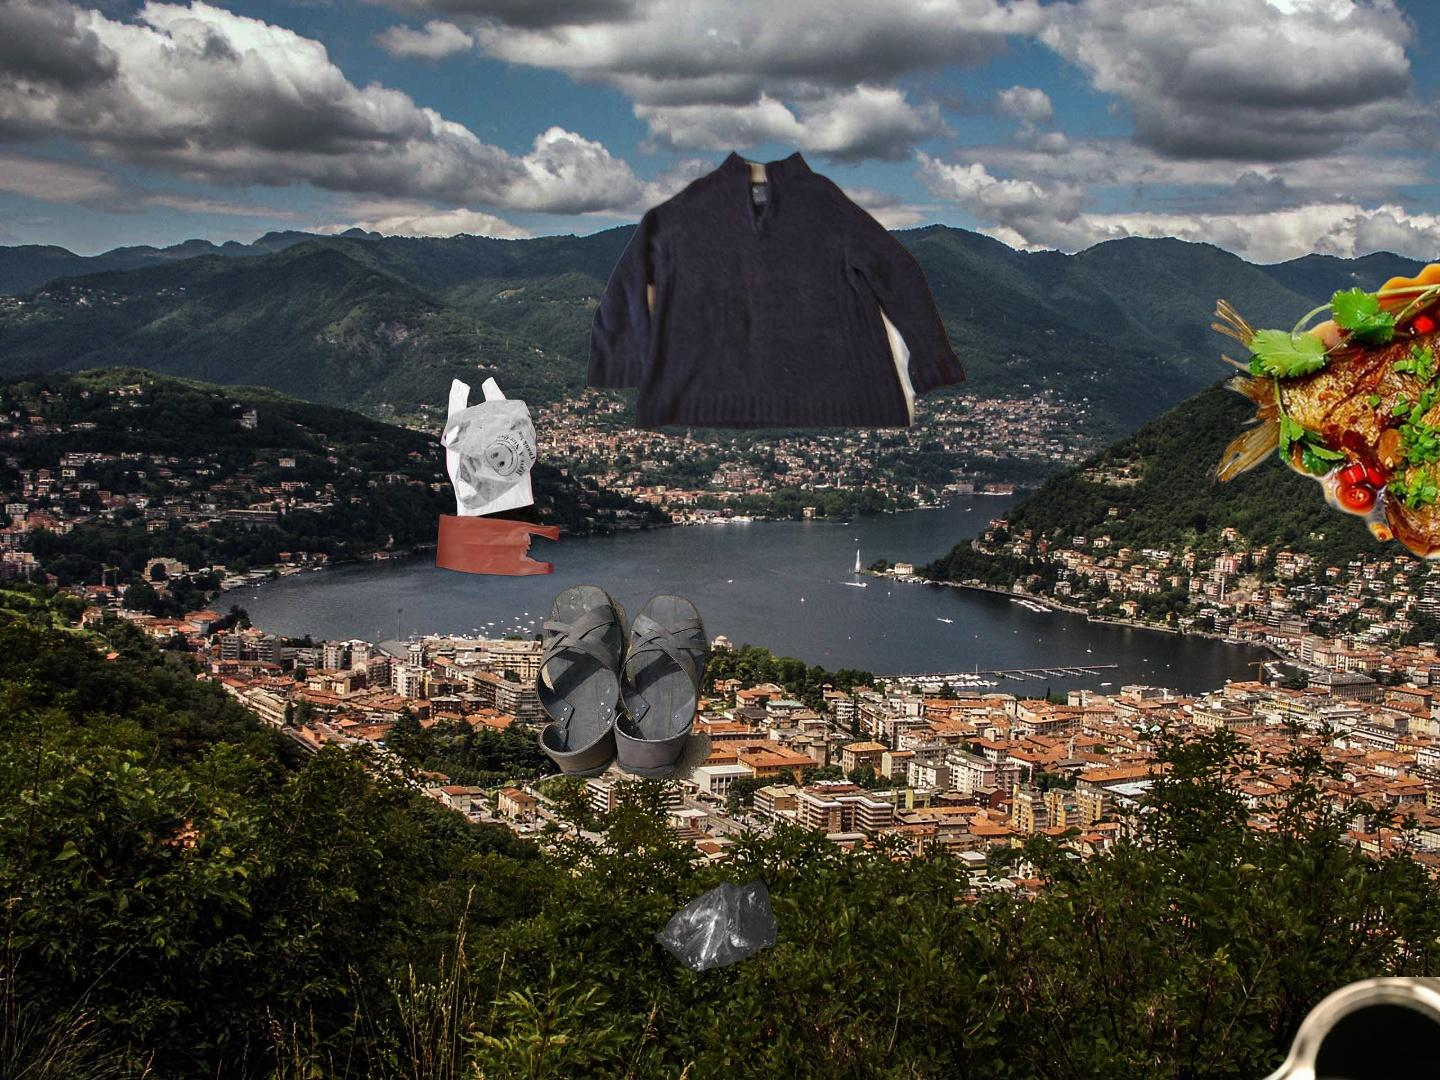biological: (1198, 221, 1440, 592)
clothes: (582, 147, 971, 434)
metal-cans: (1217, 977, 1440, 1080)
plastic-bag: (432, 373, 564, 577), (651, 877, 781, 974)
shoes: (497, 579, 715, 779)
trashbox-cardboard: (1406, 86, 1440, 621)
